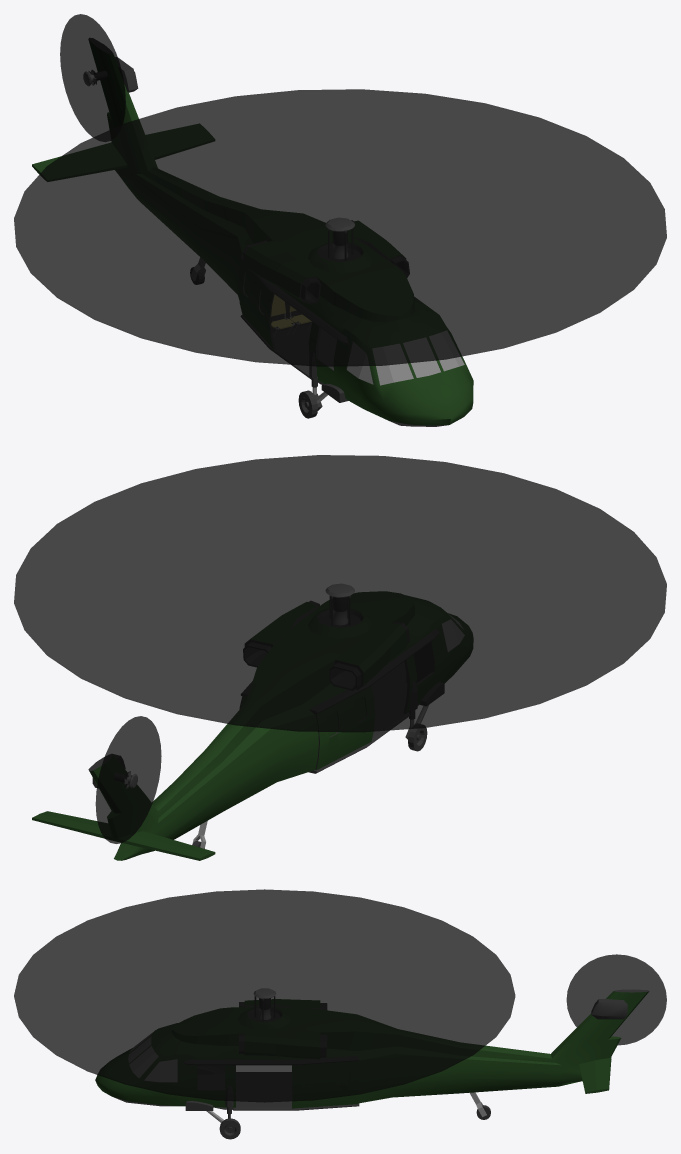
The model's file is BlackHawk.fbx.
3 views of the same model, one above another, from view 1: azimuth 30°, elevation 25°; view 2: azimuth 150°, elevation 25°; view 3: azimuth 270°, elevation 25° (orthographic). The views are drawn at different scales.
Parts seen in each view (by area): view 1: Cylinder, Black Hawk, Cylinder.001; view 2: Cylinder, Black Hawk, Cylinder.001; view 3: Cylinder, Black Hawk, Cylinder.001.
Part boxes in pixels (x1,y1,x2,y2): Cylinder: (14, 89, 666, 366); Black Hawk: (32, 38, 473, 426); Cylinder.001: (60, 14, 125, 141); Cylinder: (14, 455, 666, 732); Black Hawk: (32, 583, 473, 860); Cylinder.001: (95, 716, 161, 843); Cylinder: (14, 889, 515, 1102); Black Hawk: (95, 988, 649, 1139); Cylinder.001: (566, 954, 666, 1045).
Size of the model in its own units: 1912 by 664 by 2489.
